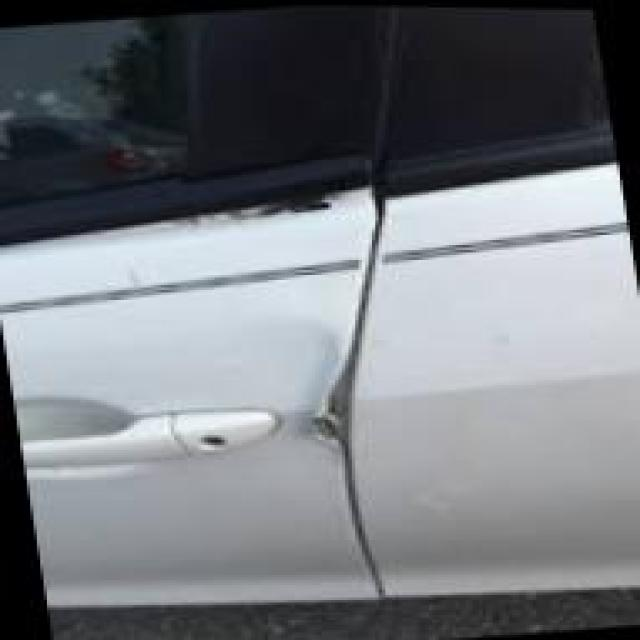Door: (181, 300, 472, 534), (44, 152, 409, 257)
